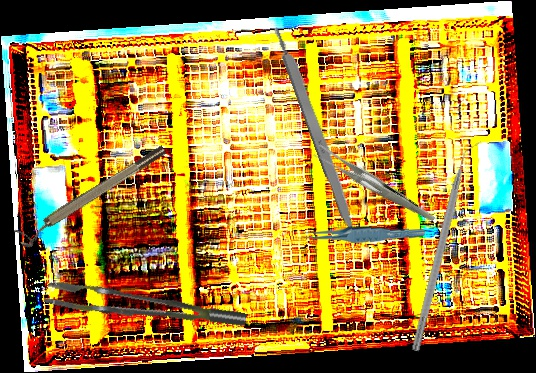Chopper: (411, 137, 484, 355)
Dressing Forceps: (310, 118, 436, 253)
Fixation Ring: (13, 142, 172, 251)
Scalpel Handle: (271, 24, 362, 237)
Tissue Forceps: (43, 262, 248, 354), (296, 221, 426, 247)
